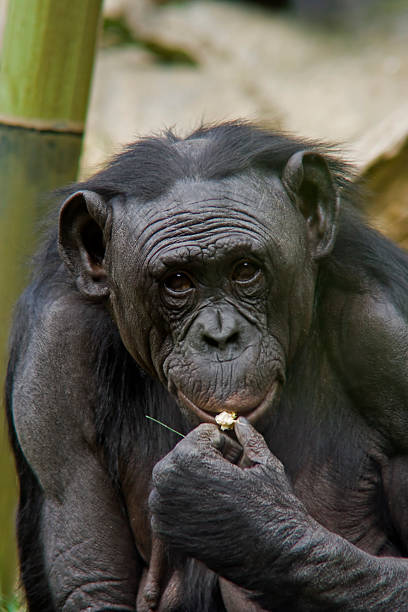chimpanzee: (31, 103, 345, 448)
